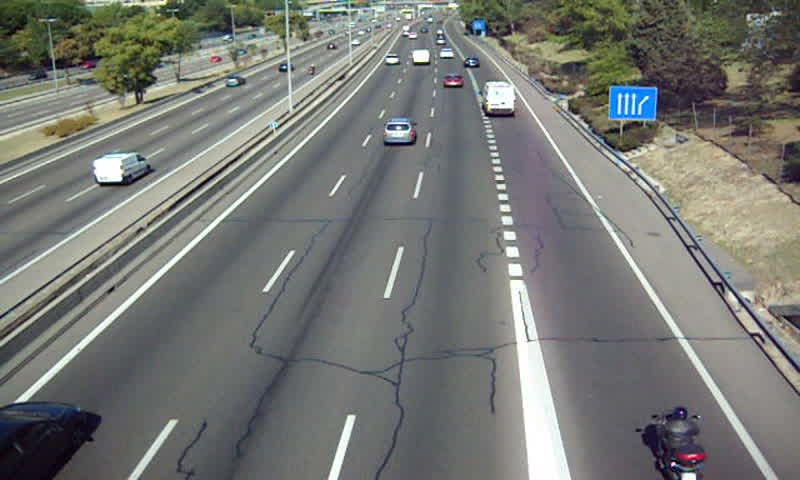car: (382, 118, 417, 146), (441, 72, 463, 90), (463, 55, 481, 70), (440, 47, 455, 59), (385, 54, 399, 66)
motorcycle: (654, 406, 708, 480)
van: (482, 81, 515, 116), (411, 48, 429, 64)
